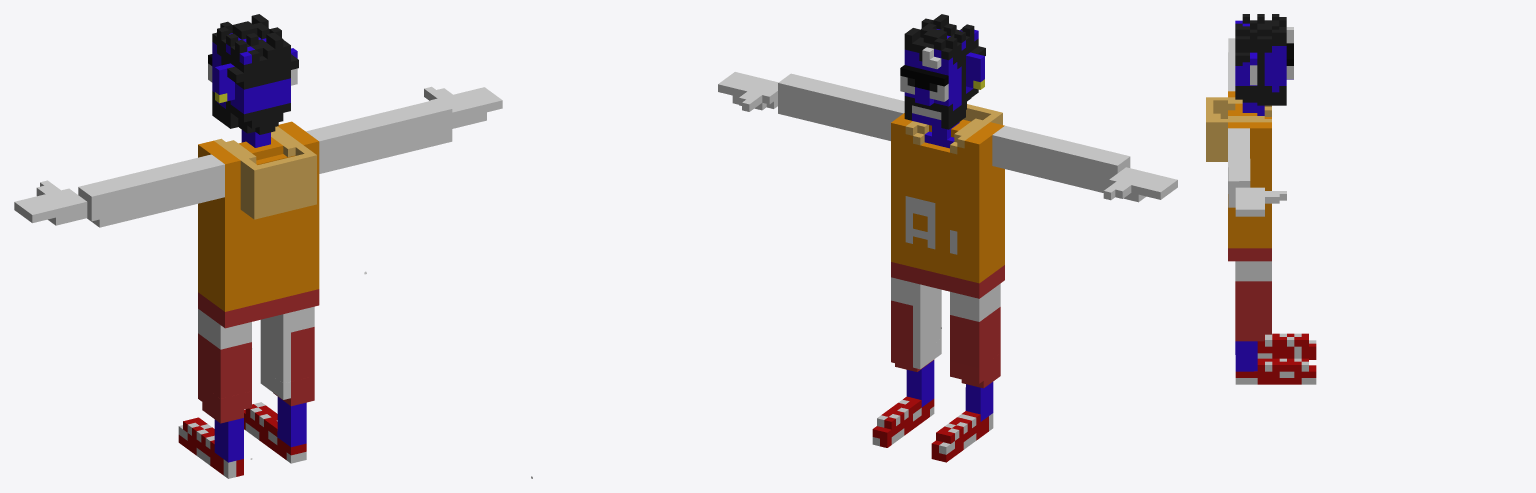
File: Audience 7.fbx
3 renders of one model, left to right at view 1: azimuth 30°, elevation 25°; view 2: azimuth 150°, elevation 25°; view 3: azimuth 270°, elevation 25°, orthographic. The views are drawn at different scales.
Visible parts, largest first — view 1: Chunk__2_2_2__2, Chunk__2_1_2_, Chunk__2_1_2__1, Chunk__2_2_2__13, Chunk__2_3_2__13, Chunk__1_2_2__3, Chunk__3_2_2__9, Chunk__2_0_2__14, Chunk__2_2_2__8, Chunk__2_0_2__15, Chunk__1_0_2__19, Chunk__2_0_2__18 (+14 smaller); view 2: Chunk__2_2_2__2, Chunk__2_1_2_, Chunk__2_1_2__1, Chunk__2_3_2__13, Chunk__2_2_2__13, Chunk__1_2_2__3, Chunk__3_2_2__9, Chunk__2_0_2__14, Chunk__2_2_2__8, Chunk__2_0_2__15, Chunk__2_2_1__13, Chunk__1_2_2__2 (+15 smaller); view 3: Chunk__1_2_2__2, Chunk__2_2_2__13, Chunk__2_3_2__13, Chunk__1_1_2_, Chunk__1_0_2__18, Chunk__1_0_2__19, Chunk__1_0_2__20, Chunk__2_2_2__2, Chunk__1_1_2__18, Chunk__2_0_2__16, Chunk__1_2_2__3, Chunk__0_2_2__4 (+5 smaller).
Part boxes in pixels (<box>): Chunk__2_2_2__2: <box>198,131,309,221</box>; Chunk__2_1_2_: <box>198,251,295,328</box>; Chunk__2_1_2__1: <box>198,203,295,270</box>; Chunk__2_2_2__13: <box>212,58,290,147</box>; Chunk__2_3_2__13: <box>212,14,290,83</box>; Chunk__1_2_2__3: <box>306,114,389,173</box>; Chunk__3_2_2__9: <box>78,171,154,227</box>; Chunk__2_0_2__14: <box>198,333,251,398</box>; Chunk__2_2_2__8: <box>157,154,224,210</box>; Chunk__2_0_2__15: <box>198,382,251,462</box>; Chunk__1_0_2__19: <box>273,376,314,447</box>; Chunk__2_0_2__18: <box>260,319,290,383</box>; Chunk__2_2_2__2: <box>913,104,1004,198</box>; Chunk__2_1_2_: <box>913,226,1004,298</box>; Chunk__2_1_2__1: <box>913,180,1004,244</box>; Chunk__2_3_2__13: <box>904,14,985,75</box>; Chunk__2_2_2__13: <box>904,63,984,132</box>; Chunk__1_2_2__3: <box>837,88,904,140</box>; Chunk__3_2_2__9: <box>1058,142,1130,192</box>; Chunk__2_0_2__14: <box>950,307,1000,368</box>; Chunk__2_2_2__8: <box>992,125,1055,178</box>; Chunk__2_0_2__15: <box>950,353,1000,421</box>; Chunk__2_2_1__13: <box>900,65,948,105</box>; Chunk__1_2_2__2: <box>891,113,919,181</box>; Chunk__1_2_2__2: <box>1206,119,1271,174</box>; Chunk__2_2_2__13: <box>1235,59,1286,112</box>; Chunk__2_3_2__13: <box>1235,14,1286,59</box>; Chunk__1_1_2_: <box>1228,215,1271,261</box>; Chunk__1_0_2__18: <box>1235,281,1271,321</box>; Chunk__1_0_2__19: <box>1235,321,1271,371</box>; Chunk__1_0_2__20: <box>1235,358,1286,384</box>; Chunk__2_2_2__2: <box>1206,91,1271,118</box>; Chunk__1_1_2__18: <box>1235,261,1271,281</box>; Chunk__2_0_2__16: <box>1257,333,1286,358</box>; Chunk__1_2_2__3: <box>1228,128,1249,156</box>; Chunk__0_2_2__4: <box>1228,168,1250,207</box>.
Bounding box in the file's own units: 651 × 523 × 430.
